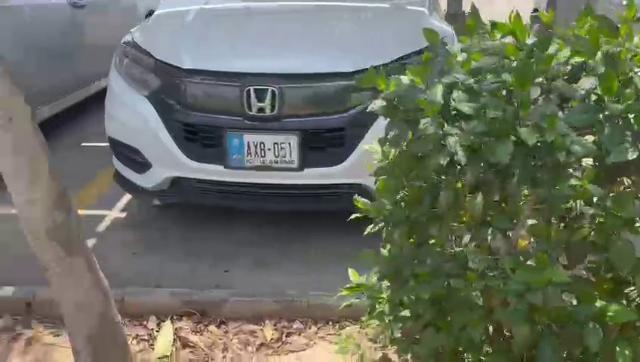plate: (226, 132, 300, 170)
